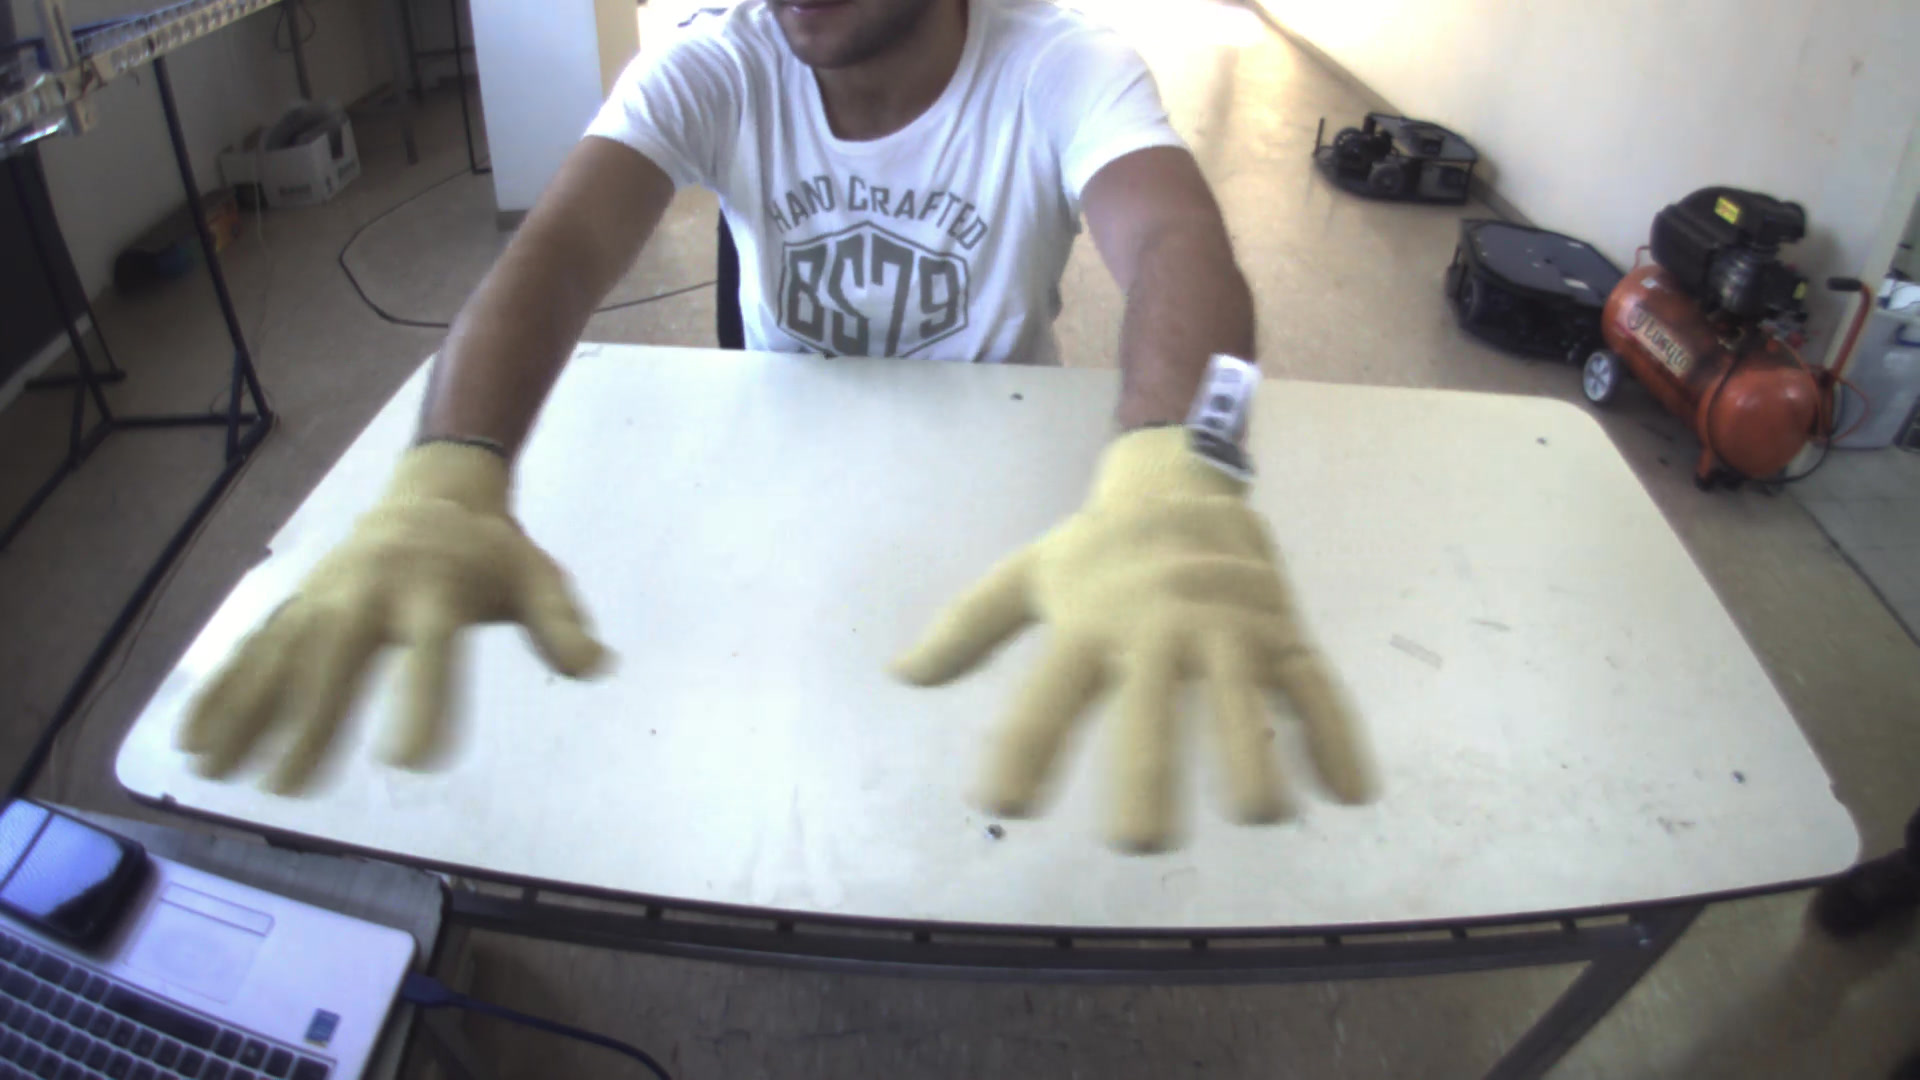hand: (862, 400, 1414, 872), (175, 426, 626, 804)
